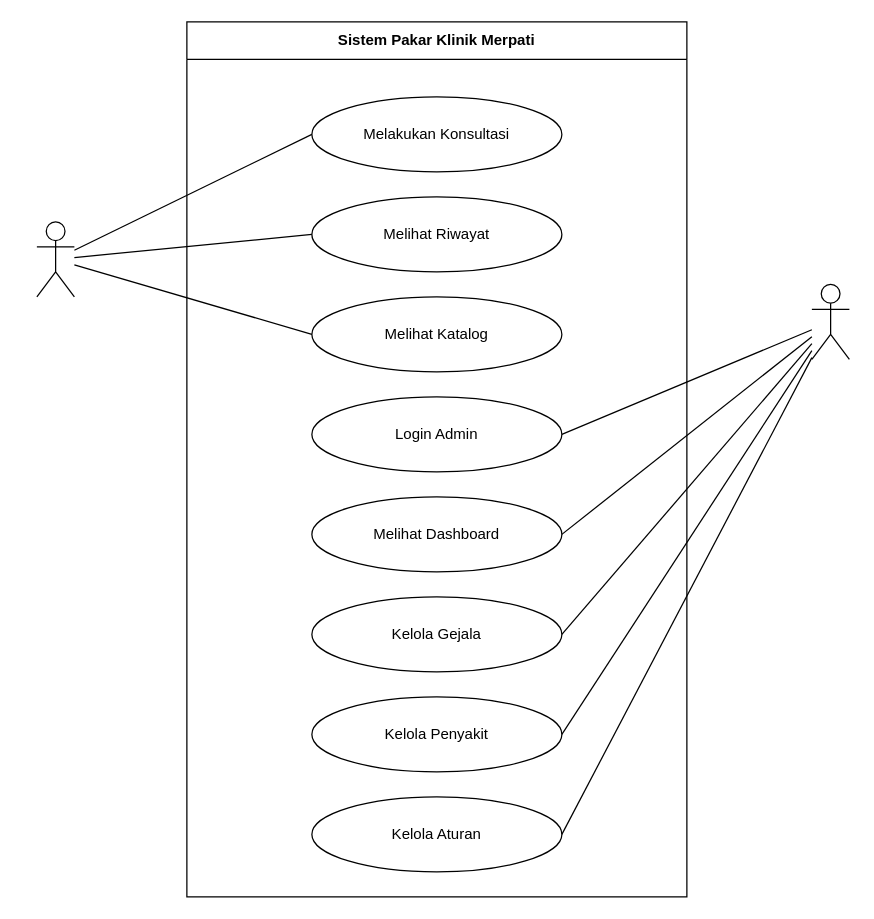
Some shapes in this 874 by 919 pixel diagram are drawn without their labels. Each missing label, with the centre of its shape:
Admin: (x=830, y=321)
Pengguna: (x=55, y=259)
